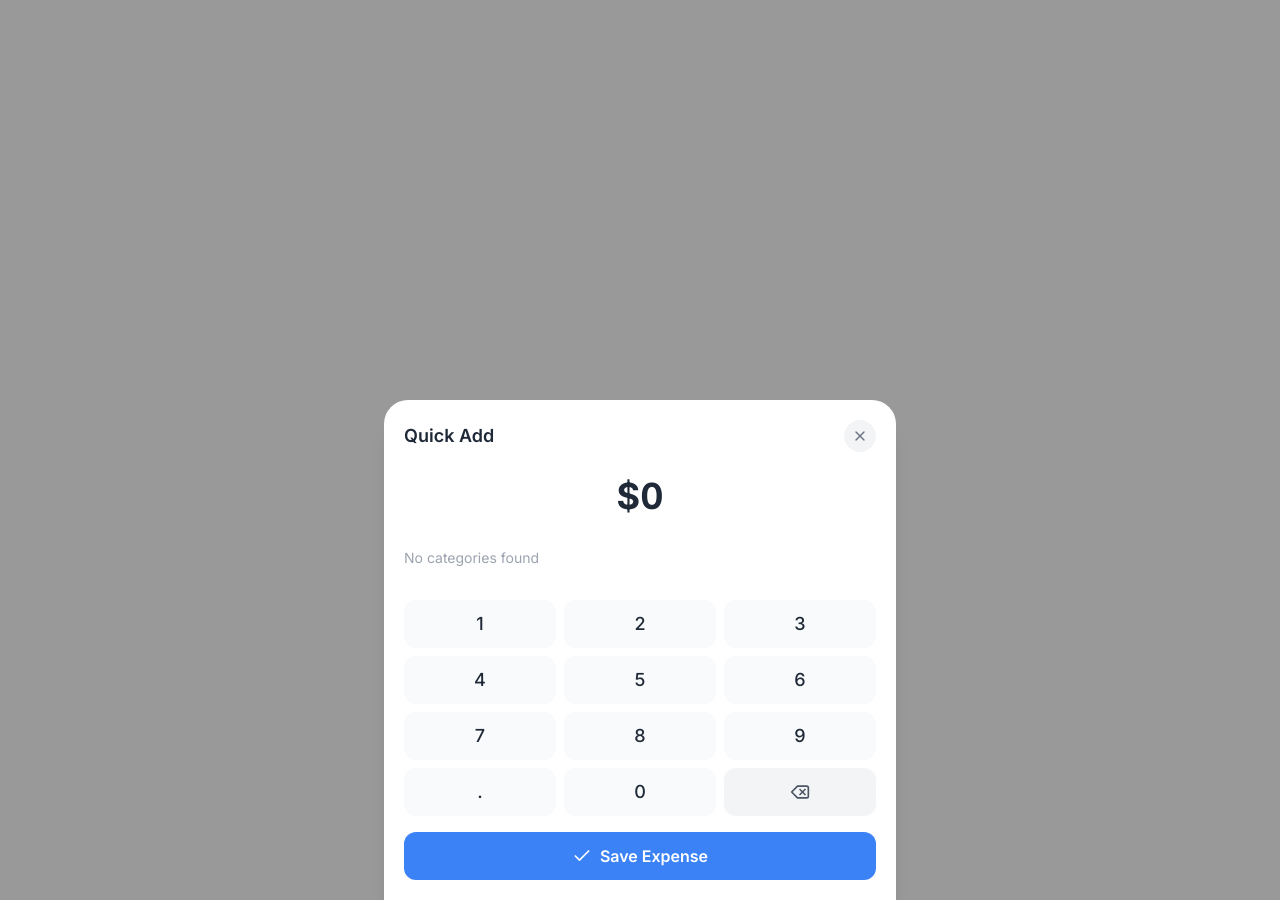
it: QuickAddModal › updates amount when digits are pressed
What coordinates should you click on to do the following:
click the button "4"
I would click on:
 (480, 680)
Its box is [404,656,556,704].
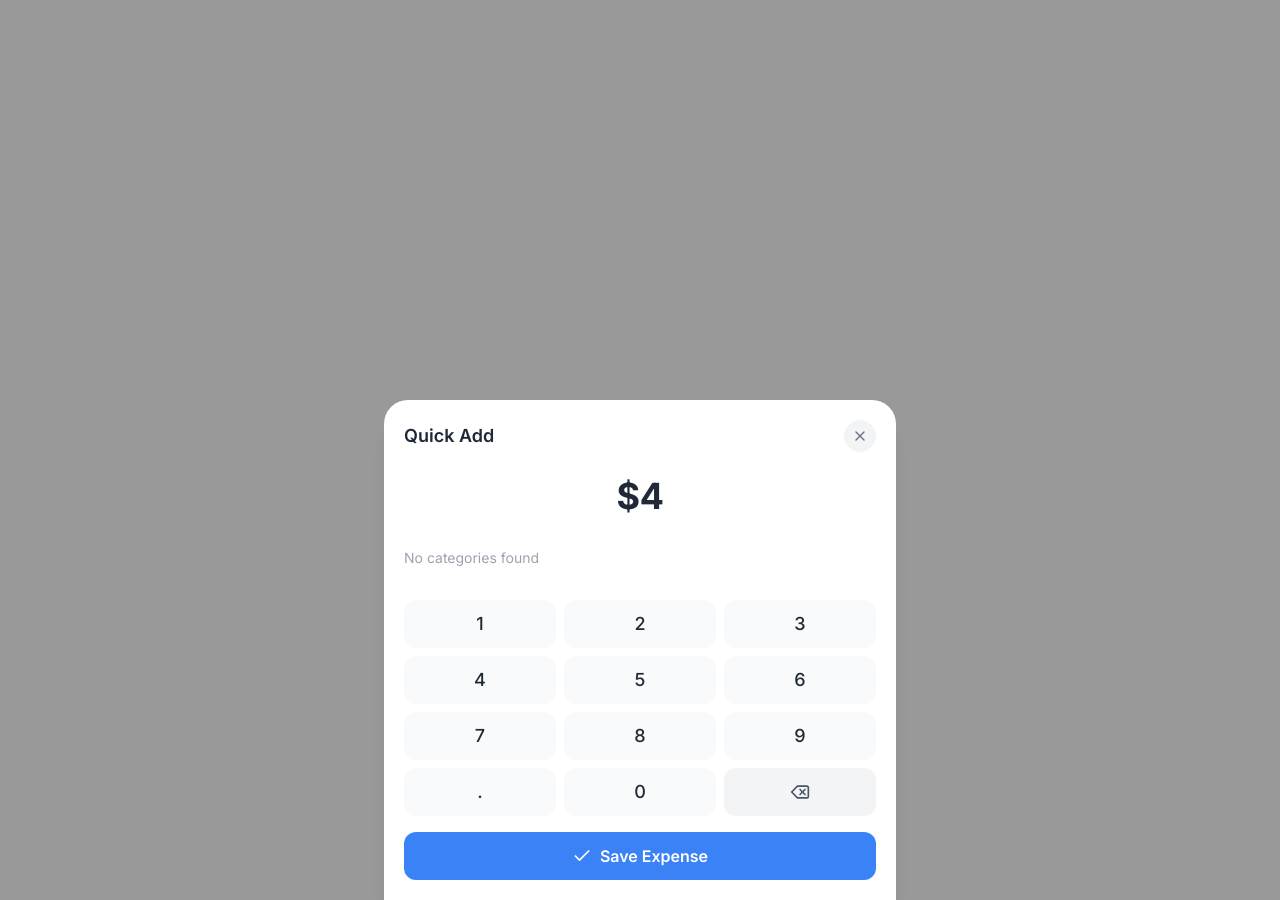
What coordinates should you click on to do the following:
click the button "5"
I would click on:
 (640, 680)
Its box is [564,656,716,704].
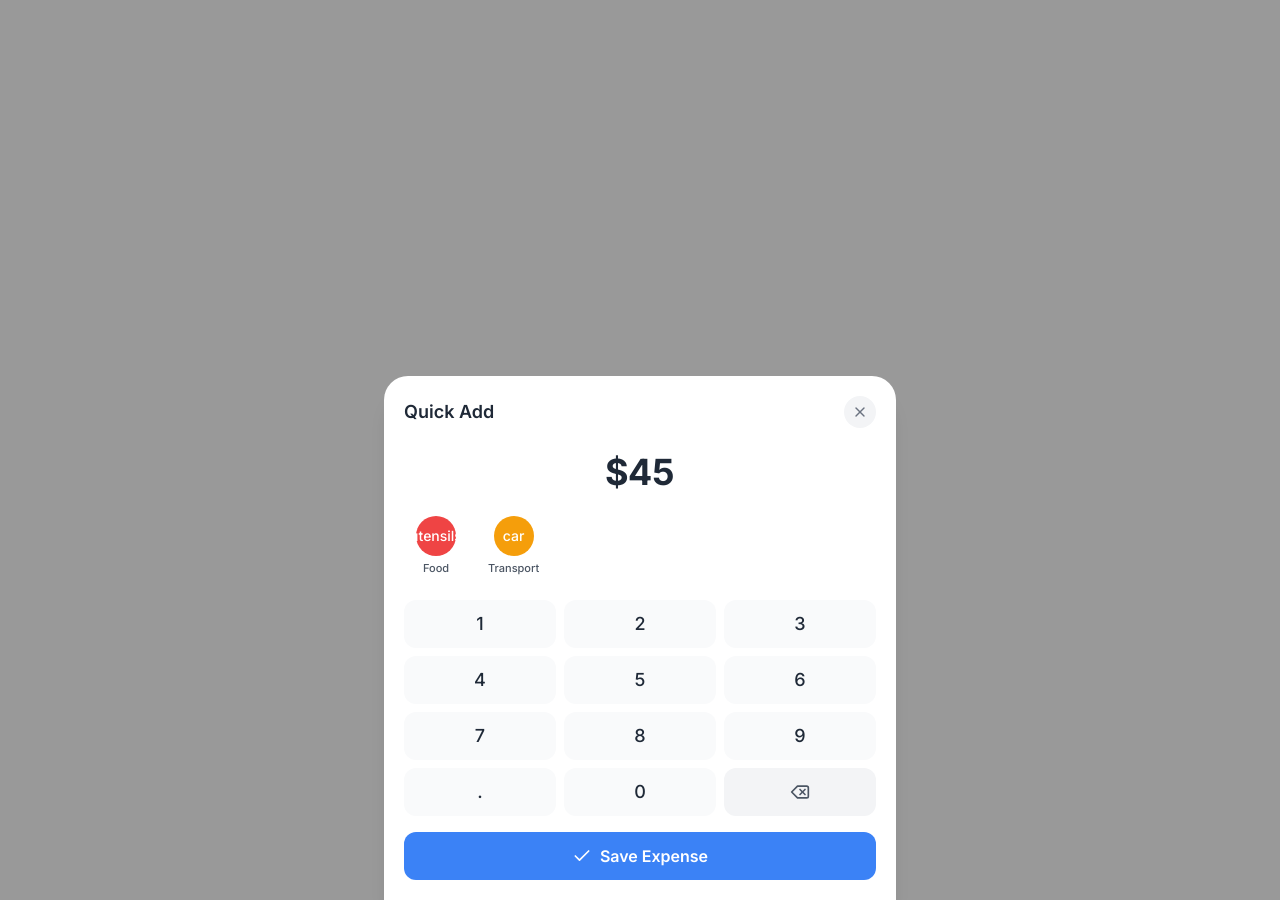
Now the text "$45" is shown, box [605,450,675,494]
